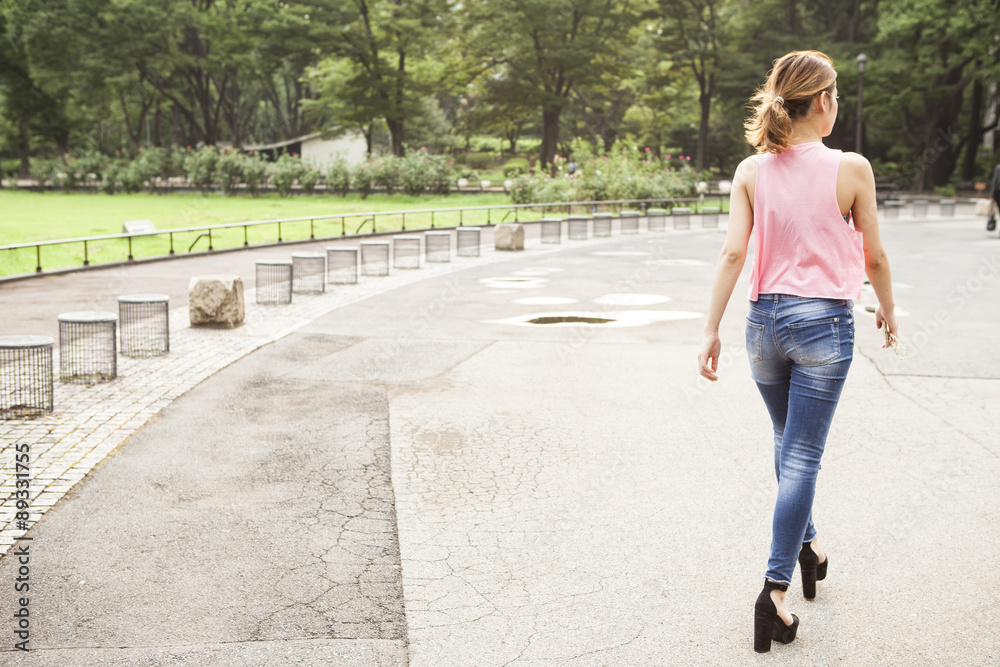person: (692, 46, 904, 656)
